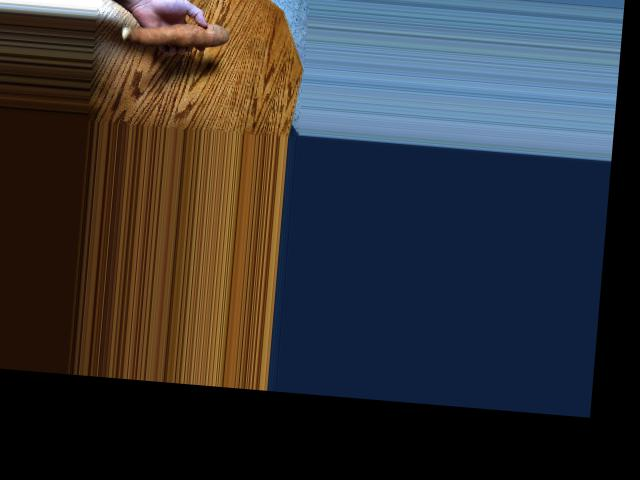sweet_potato: (128, 22, 229, 58)
